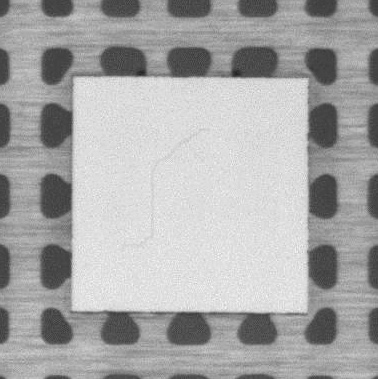DIE_CRACK: (129, 128, 210, 246)
